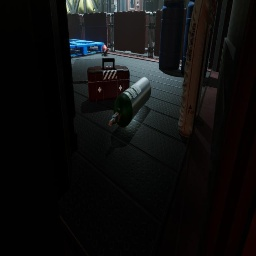0: (109, 77, 151, 128), (152, 42, 154, 49)
FireExtinguisher ]: (101, 44, 109, 54)
FirstAidBox ,: (87, 58, 130, 102)
NitrogenTank ,: (111, 37, 112, 43)
SafetySwitchPanel ,: (111, 0, 117, 18)
